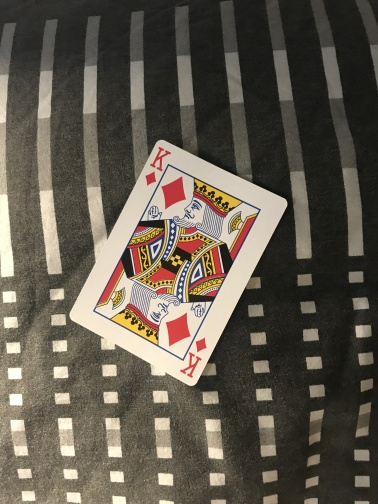king: (67, 138, 289, 388)
